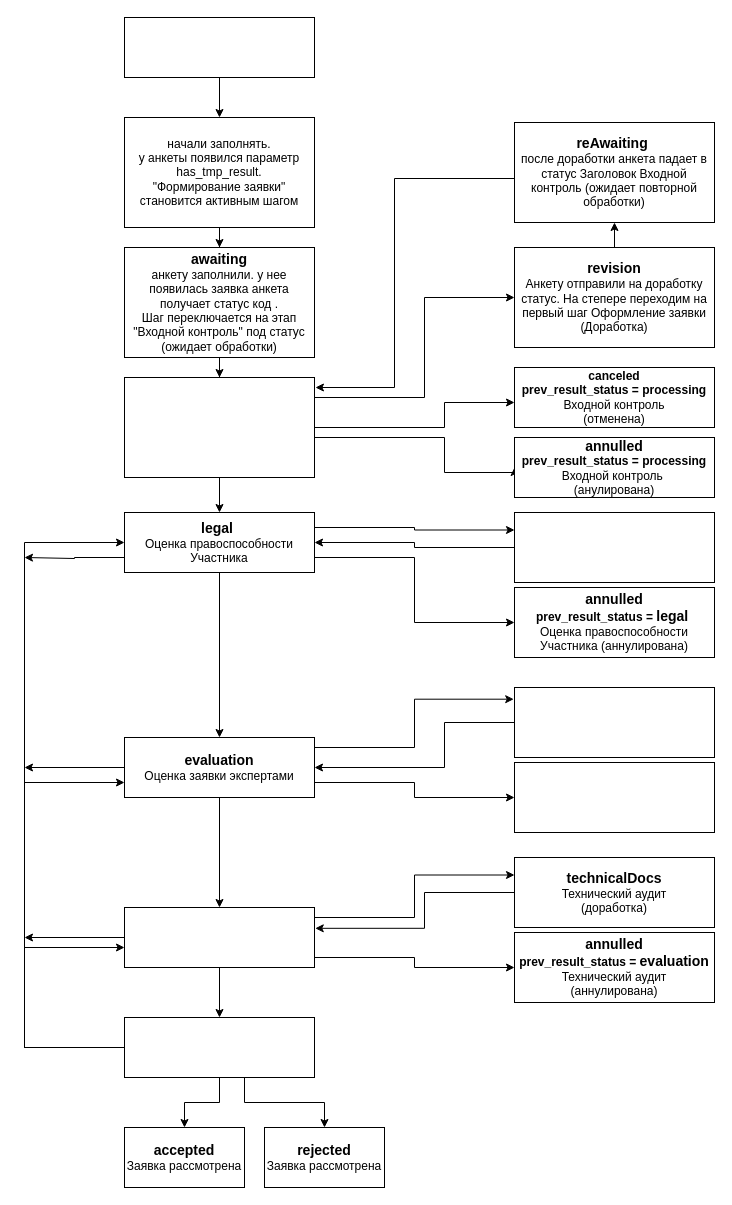
The diagram is 732 pixels wide and 1205 high, and some of its shapes have lost their labels. The centre of each missing label's shape, as x and y in pixels:
"annulled prev_result_status = evaluation Оценка заявки экспертами (аннулирована)" goes at [614,797].
"evaluationD Оценка заявки экспертами (доработка)" goes at [614,722].
"legalD Оценка правоспособности Участника (доработка)" goes at [614,547].
"proccesing анкету начали обрабатывать Входной контроль (% обработанных вопросов)" goes at [219,427].
"summingUp Подготовка итогового решения" goes at [219,1047].
"technical Технический аудит" goes at [219,937].
"пустая заявка. все не активно" goes at [219,47].
